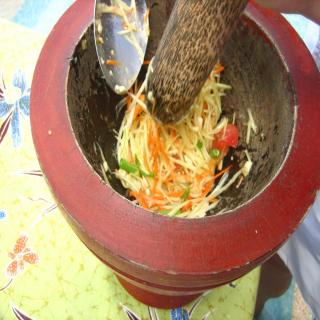Salad: (94, 51, 258, 218)
